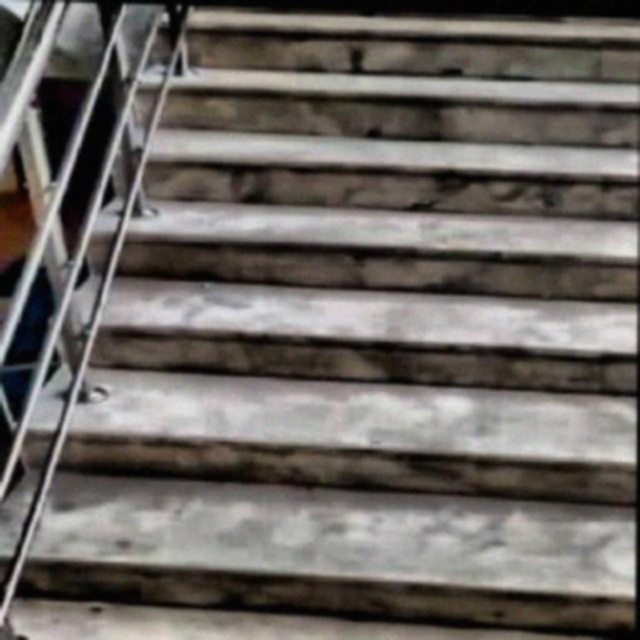stair: (36, 1, 638, 634)
